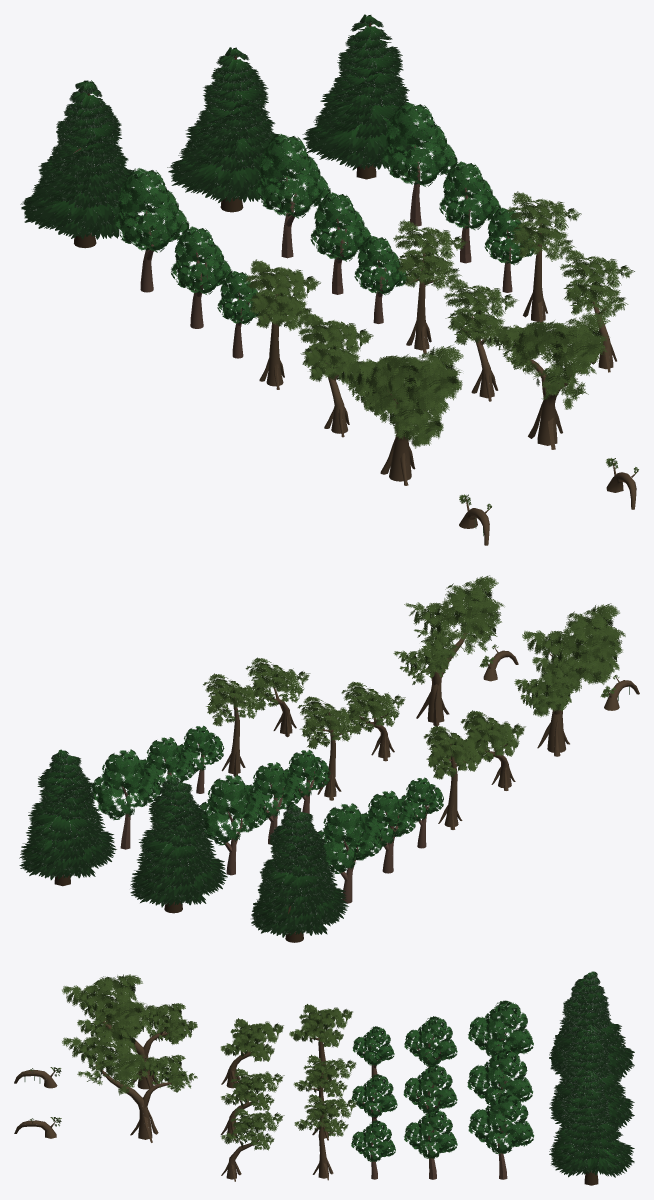
File: PackTrees.fbx
The picture shows the model from 3 angles, top to bottom: view 1: azimuth 30°, elevation 25°; view 2: azimuth 150°, elevation 25°; view 3: azimuth 270°, elevation 25°; orthographic projection. The views are drawn at different scales.
Visible parts, largest first — view 1: PineLeaf100, PineLeaf50, PineLeaf30, CypressBigLeaf100, CypressBigLeaf50, OakBigLeaf100, OakBigLeaf30, OakBigLeaf50, CypressStraightLeaf100, CypressStraightLeaf50, CypressCrookedLeaf30, CypressStraightLeaf30 (+15 smaller); view 2: PineLeaf100, PineLeaf50, PineLeaf30, CypressBigLeaf100, CypressBigLeaf50, OakBigLeaf30, OakBigLeaf50, OakBigLeaf100, CypressStraightLeaf100, CypressStraightLeaf50, CypressStraightLeaf30, CypressCrookedLeaf50 (+13 smaller); view 3: PineLeaf30, CypressBigLeaf100, CypressBigLeaf50, PineLeaf100, PineLeaf50, OakBigLeaf30, OakBigLeaf100, OakBigLeaf50, OakMediumLeaf30, OakMediumLeaf100, OakMediumLeaf50, CypressStraightLeaf100 (+15 smaller).
Part boxes in pixels (x1=…): PineLeaf100: x1=20, y1=80, x2=141, y2=239; PineLeaf50: x1=167, y1=47, x2=289, y2=202; PineLeaf30: x1=302, y1=14, x2=420, y2=170; CypressBigLeaf100: x1=336, y1=345, x2=463, y2=448; CypressBigLeaf50: x1=482, y1=312, x2=610, y2=409; OakBigLeaf100: x1=113, y1=168, x2=189, y2=252; OakBigLeaf30: x1=381, y1=102, x2=457, y2=186; OakBigLeaf50: x1=254, y1=134, x2=330, y2=218; CypressStraightLeaf100: x1=245, y1=259, x2=320, y2=330; CypressStraightLeaf50: x1=393, y1=219, x2=467, y2=290; CypressCrookedLeaf30: x1=560, y1=248, x2=634, y2=317; CypressStraightLeaf30: x1=507, y1=191, x2=581, y2=261; PineLeaf100: x1=251, y1=802, x2=348, y2=937; PineLeaf50: x1=130, y1=776, x2=227, y2=907; PineLeaf30: x1=19, y1=749, x2=116, y2=880; CypressBigLeaf100: x1=514, y1=603, x2=625, y2=717; CypressBigLeaf50: x1=393, y1=575, x2=504, y2=684; OakBigLeaf30: x1=91, y1=749, x2=161, y2=820; OakBigLeaf50: x1=199, y1=774, x2=266, y2=845; OakBigLeaf100: x1=318, y1=803, x2=382, y2=873; CypressStraightLeaf100: x1=423, y1=725, x2=488, y2=779; CypressStraightLeaf50: x1=297, y1=696, x2=362, y2=749; CypressStraightLeaf30: x1=203, y1=673, x2=267, y2=726; CypressCrookedLeaf50: x1=341, y1=681, x2=405, y2=734; PineLeaf30: x1=549, y1=1071, x2=634, y2=1177; CypressBigLeaf100: x1=62, y1=974, x2=197, y2=1044; CypressBigLeaf50: x1=62, y1=1026, x2=197, y2=1095; PineLeaf100: x1=549, y1=971, x2=634, y2=1079; PineLeaf50: x1=549, y1=1024, x2=634, y2=1129; OakBigLeaf30: x1=468, y1=1092, x2=534, y2=1153; OakBigLeaf100: x1=468, y1=1000, x2=533, y2=1059; OakBigLeaf50: x1=467, y1=1049, x2=533, y2=1109; OakMediumLeaf30: x1=404, y1=1109, x2=457, y2=1158; OakMediumLeaf100: x1=404, y1=1016, x2=457, y2=1065; OakMediumLeaf50: x1=403, y1=1064, x2=457, y2=1114; CypressStraightLeaf100: x1=289, y1=1004, x2=352, y2=1047.
Bounding box in the file's own units: 3751 × 1467 × 7191.
